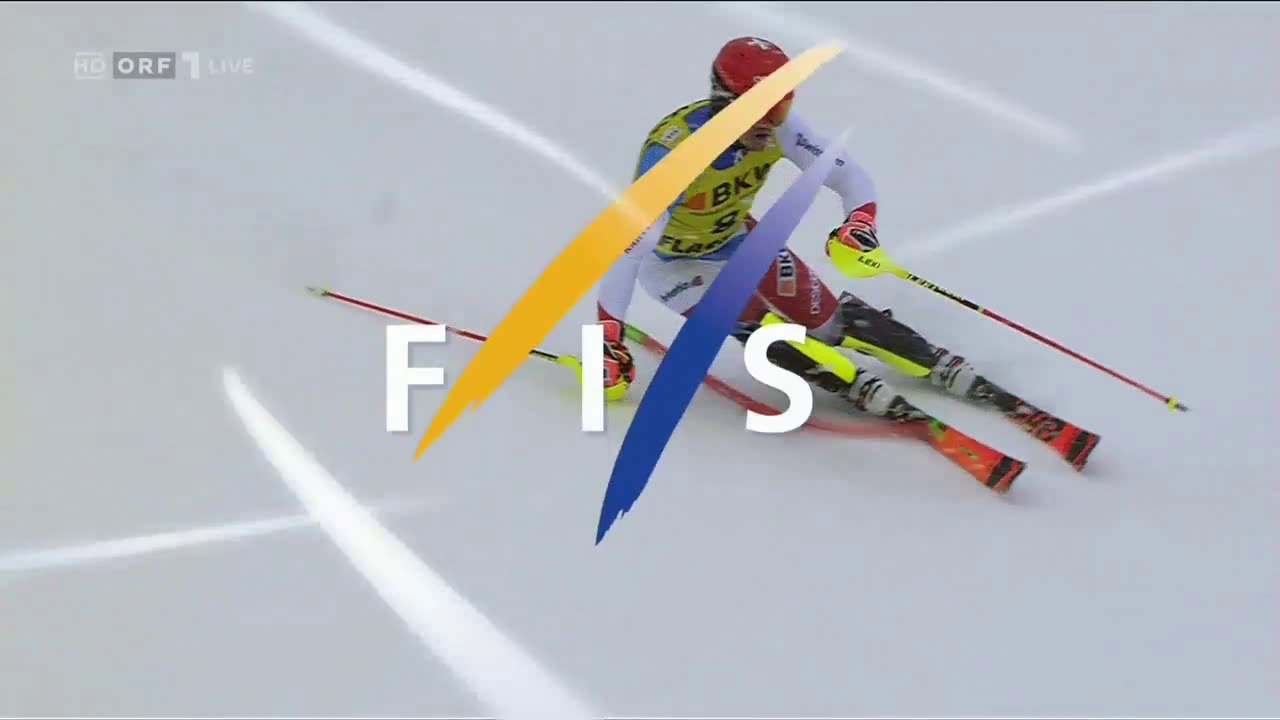rauch: (659, 206, 748, 253)
